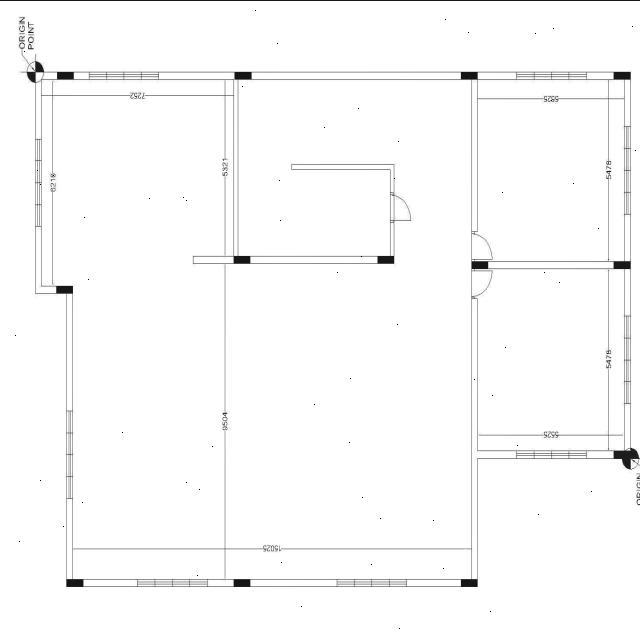Column: (234, 70, 252, 78), (66, 578, 84, 586), (57, 70, 74, 78), (233, 578, 250, 586), (462, 71, 478, 79), (614, 70, 630, 78), (614, 260, 630, 268), (614, 450, 630, 458), (472, 260, 488, 268), (462, 578, 478, 586), (56, 285, 72, 293), (234, 255, 250, 263), (378, 255, 394, 263)
Door: (389, 190, 412, 223), (471, 269, 494, 299), (471, 230, 494, 260)
Window: (550, 446, 588, 461), (622, 124, 634, 170), (171, 576, 209, 590), (550, 68, 588, 82), (371, 575, 408, 589), (34, 137, 44, 183), (65, 408, 75, 454), (136, 576, 174, 588), (336, 576, 374, 588), (515, 448, 553, 460), (515, 68, 553, 80), (123, 69, 160, 81), (623, 314, 632, 361), (623, 168, 632, 215), (34, 180, 42, 227), (624, 357, 632, 404), (88, 70, 125, 80), (66, 452, 74, 498)
